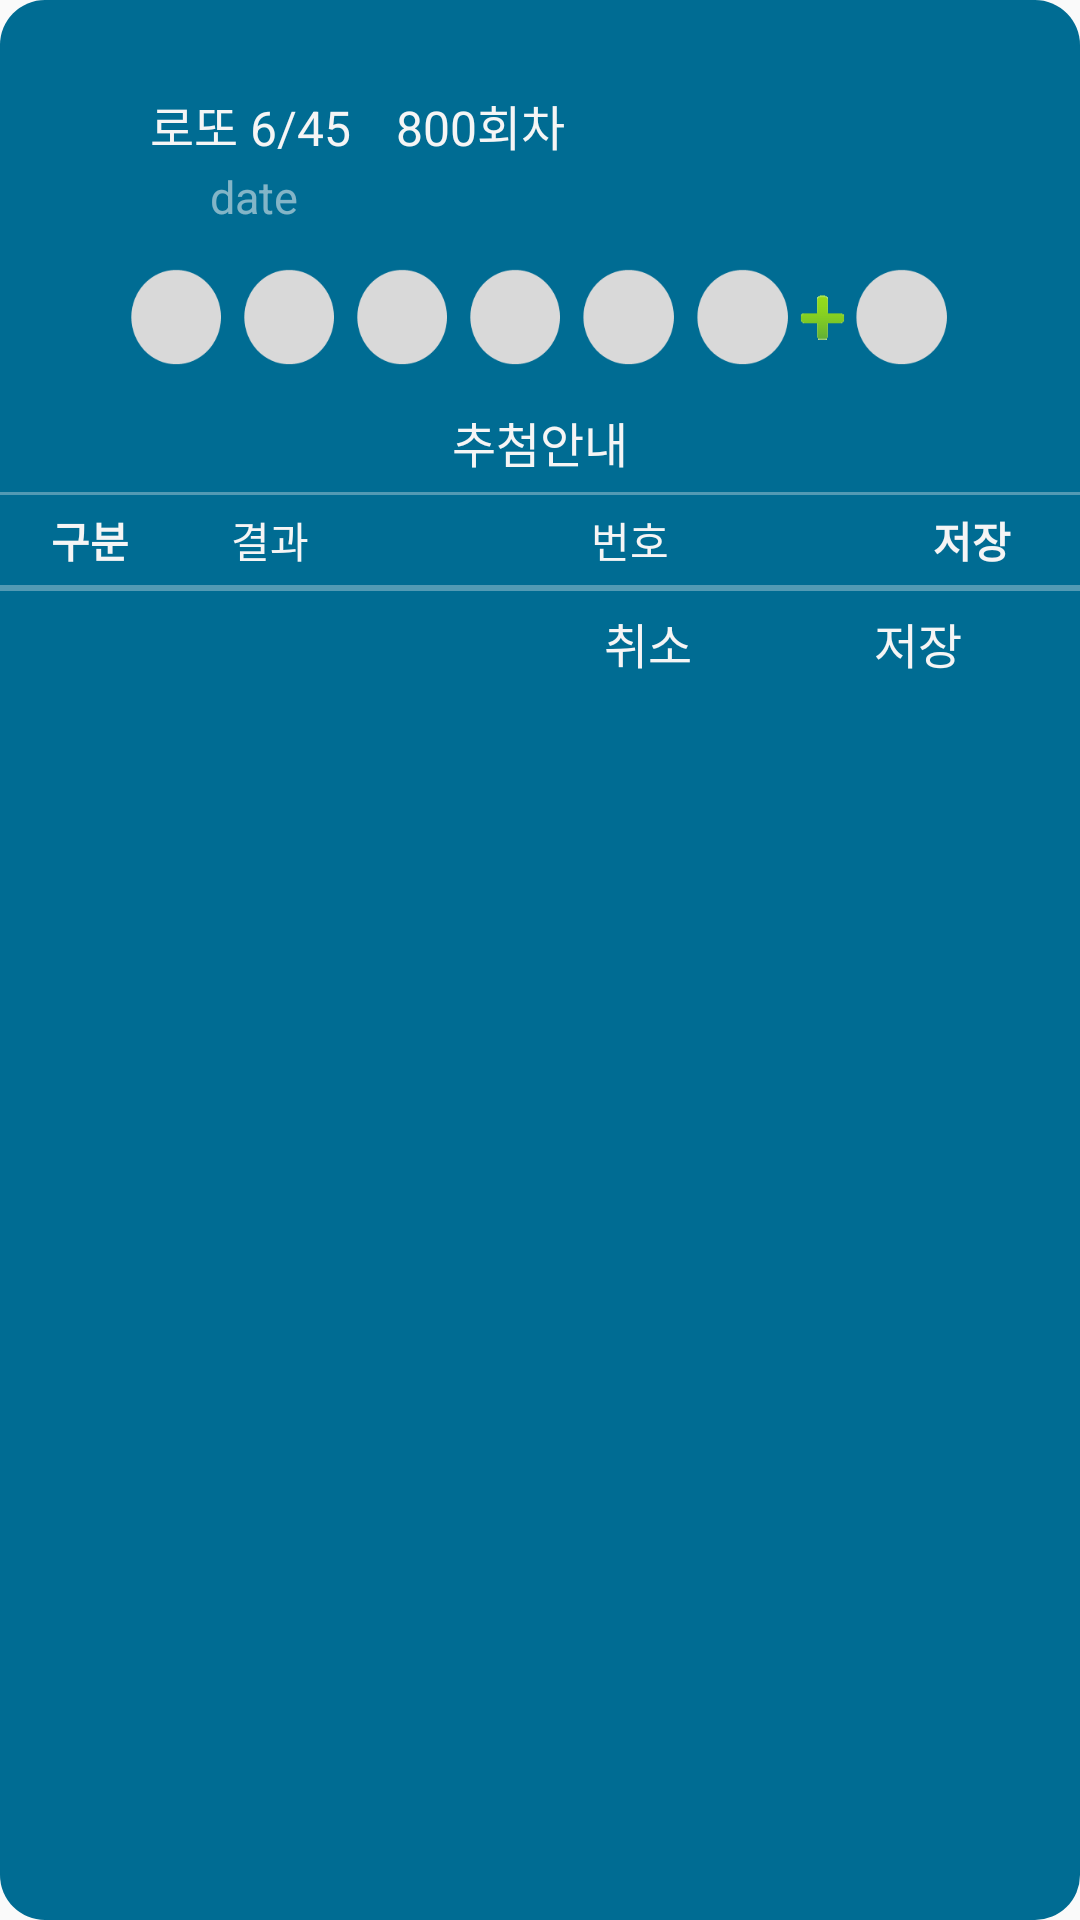

Named icons in this screenshot (1080*1920) and their centers, (x=x, y=y):
plus: (x=822, y=317)
